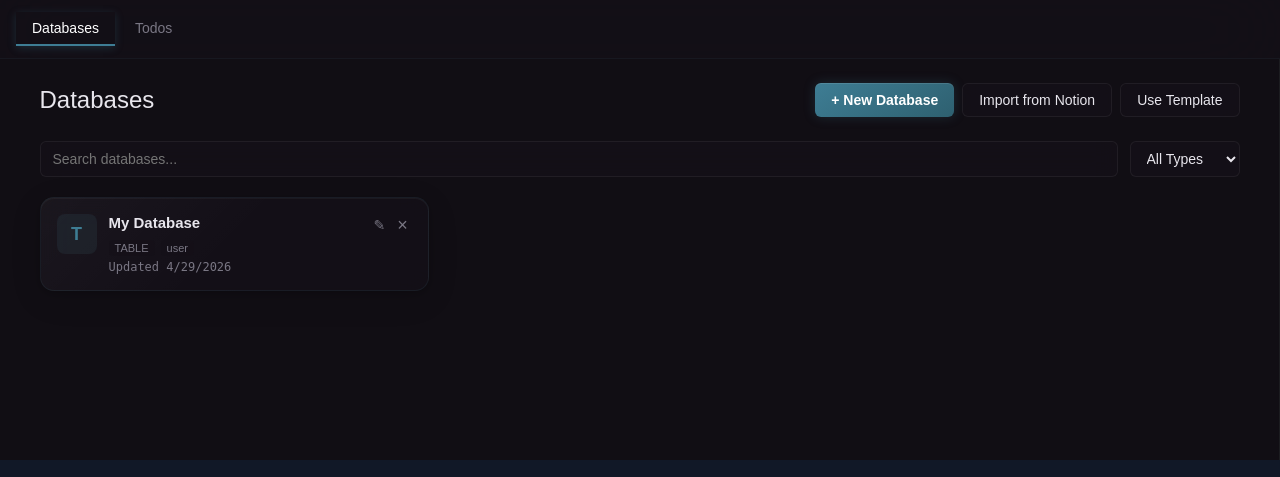
DataManagerPage › navigates back to list from table view
Click the element with test id "database-card-db-1": (234,244) [40,197,429,291]
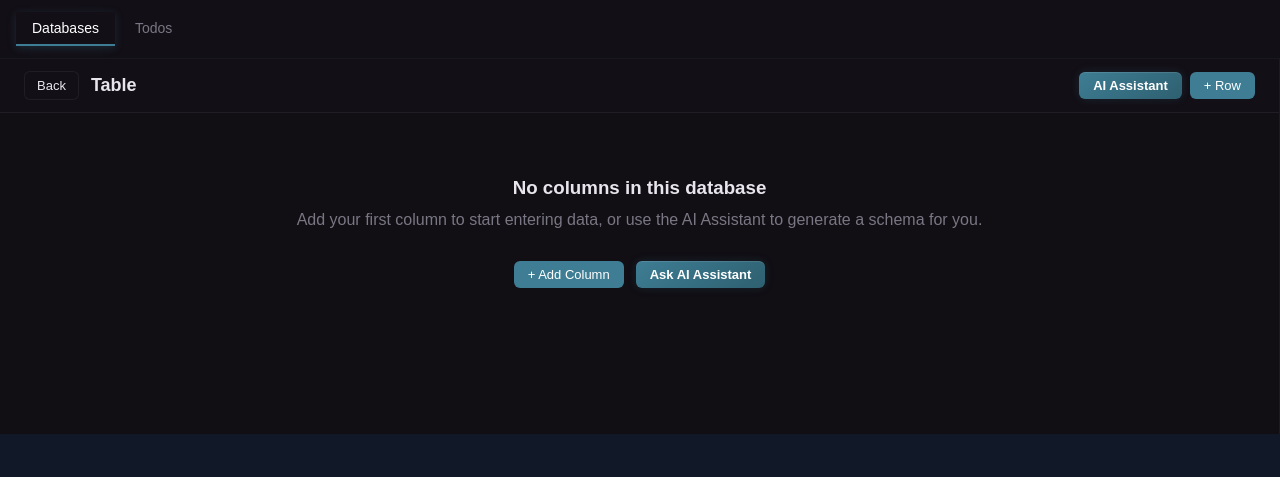
expect the element with test id "table-view" is shown: met
Click the button with test id "btn-back": (51,86) [24,71,79,100]
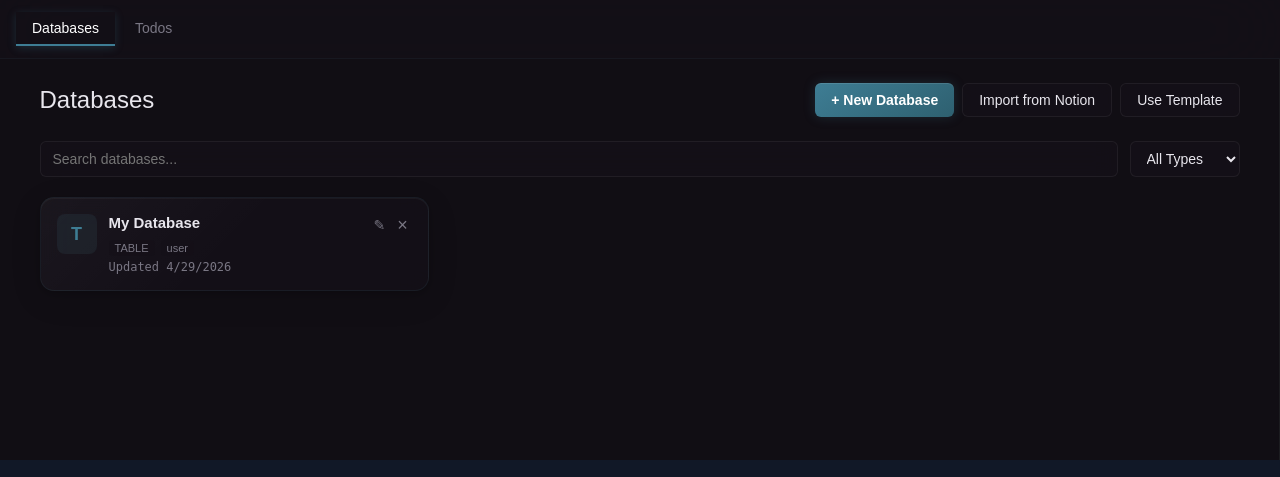
expect the element with test id "database-list" is shown: met, box [16,59,1264,315]
expect the element with test id "table-view" is gone: met
